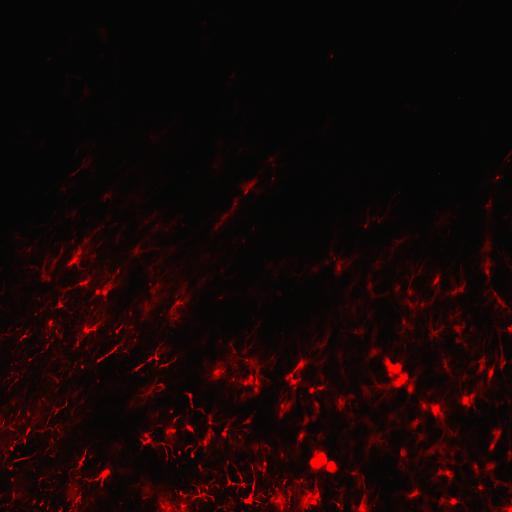microglia: (299, 487, 323, 510), (243, 470, 256, 512), (491, 288, 512, 313), (96, 345, 122, 364), (366, 426, 386, 448), (67, 248, 85, 270), (96, 466, 116, 484), (81, 320, 103, 336), (385, 355, 402, 374), (310, 449, 326, 468), (140, 301, 156, 319), (430, 402, 444, 422), (139, 431, 154, 449), (156, 498, 175, 512), (202, 430, 215, 450), (498, 342, 506, 373), (212, 363, 224, 382), (326, 457, 337, 477), (358, 492, 369, 512), (202, 491, 216, 506), (480, 236, 492, 253), (240, 182, 254, 196), (482, 257, 491, 278), (72, 491, 83, 508), (226, 474, 238, 488), (102, 283, 113, 298), (392, 375, 407, 386), (192, 485, 201, 503), (460, 393, 470, 409), (179, 499, 191, 512), (140, 481, 152, 494), (292, 359, 306, 370), (440, 355, 450, 370), (362, 385, 372, 400), (444, 468, 453, 484), (148, 282, 160, 294), (395, 461, 407, 473), (407, 490, 422, 499), (186, 423, 198, 434), (166, 425, 178, 436), (242, 374, 253, 386), (411, 416, 420, 430), (479, 354, 485, 374), (254, 366, 260, 386), (130, 246, 142, 256), (148, 352, 160, 362), (228, 342, 238, 354), (484, 198, 493, 211), (222, 424, 229, 440), (469, 391, 477, 405), (338, 397, 346, 411), (366, 280, 374, 294), (178, 489, 188, 500), (333, 499, 344, 509), (115, 322, 124, 334), (56, 297, 65, 309), (492, 430, 502, 440), (174, 298, 184, 308), (430, 327, 439, 338), (207, 412, 214, 426), (408, 381, 415, 395), (156, 383, 168, 391), (487, 367, 495, 379), (243, 359, 255, 367), (428, 444, 436, 456), (504, 152, 512, 164), (433, 273, 440, 286), (394, 282, 401, 295), (420, 401, 429, 411), (448, 497, 458, 506), (437, 446, 446, 456), (43, 273, 53, 282), (492, 174, 503, 182), (132, 363, 146, 369), (78, 279, 90, 286), (400, 444, 407, 456), (46, 320, 55, 329), (297, 432, 305, 442), (507, 448, 512, 464), (450, 288, 458, 298), (160, 440, 168, 450), (52, 406, 60, 416), (228, 495, 234, 508), (285, 372, 294, 380), (290, 380, 302, 386), (460, 282, 466, 294), (36, 474, 44, 483), (361, 221, 370, 229), (78, 458, 85, 468), (237, 470, 243, 481), (440, 496, 446, 507), (507, 321, 512, 334), (187, 394, 195, 402), (488, 442, 496, 450), (158, 364, 174, 368), (407, 287, 415, 295), (217, 294, 225, 302), (371, 348, 377, 358), (437, 468, 443, 478), (394, 238, 404, 244), (54, 376, 60, 386), (504, 505, 512, 512), (421, 299, 426, 310), (243, 418, 252, 424), (309, 386, 315, 395), (486, 464, 495, 470), (455, 325, 461, 334), (376, 257, 380, 270), (75, 338, 80, 348), (295, 476, 300, 486), (240, 482, 247, 489), (318, 384, 325, 391), (172, 416, 180, 422), (30, 498, 36, 506), (276, 495, 284, 501), (240, 392, 246, 400), (319, 373, 325, 381), (19, 335, 28, 340), (278, 287, 282, 298), (314, 401, 320, 408), (282, 478, 288, 485), (202, 485, 210, 490), (26, 428, 31, 436), (40, 498, 44, 508), (199, 462, 203, 471), (285, 403, 291, 409), (256, 465, 262, 471), (336, 262, 340, 271), (254, 386, 258, 395), (237, 434, 243, 440), (95, 288, 100, 295), (143, 495, 150, 500), (378, 217, 383, 224), (12, 492, 16, 500), (84, 448, 88, 456), (96, 377, 100, 385), (280, 503, 284, 511), (354, 328, 358, 336), (360, 328, 364, 336), (242, 236, 246, 244), (244, 427, 249, 433), (8, 466, 14, 471), (132, 338, 138, 343), (231, 374, 235, 381), (279, 411, 283, 418), (304, 418, 308, 425), (350, 472, 357, 476), (8, 446, 15, 450), (507, 398, 511, 405), (478, 485, 483, 490), (189, 403, 194, 408), (226, 459, 230, 465), (191, 451, 195, 457), (178, 450, 182, 456), (280, 451, 284, 457), (474, 463, 478, 469), (402, 319, 406, 325), (80, 363, 84, 369), (46, 343, 50, 349), (24, 436, 27, 444), (27, 411, 31, 417), (10, 425, 14, 431), (216, 483, 220, 489), (252, 226, 256, 232), (281, 404, 285, 409), (263, 461, 267, 466), (263, 467, 267, 472), (256, 445, 260, 450), (300, 478, 304, 483), (14, 440, 18, 445), (372, 217, 376, 222), (11, 476, 14, 482), (54, 330, 58, 334), (28, 358, 32, 362), (46, 506, 50, 510), (116, 268, 119, 273), (129, 311, 132, 316), (223, 504, 225, 511), (46, 335, 49, 339), (22, 418, 25, 422), (218, 503, 220, 509), (51, 438, 53, 443), (476, 470, 479, 473), (268, 447, 270, 450), (170, 410, 172, 412)
